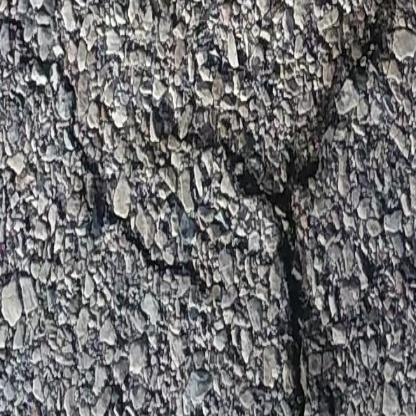Cracks: (165, 0, 407, 416), (0, 15, 205, 298), (322, 390, 349, 416)
